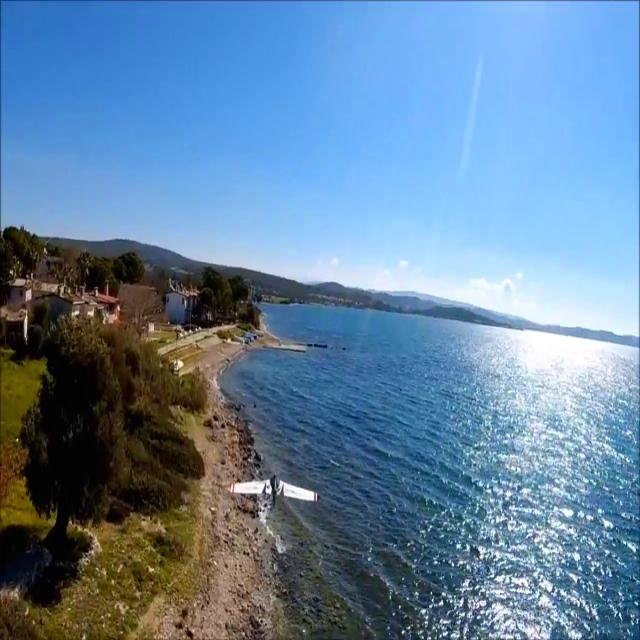iha: (260, 463, 293, 521)
